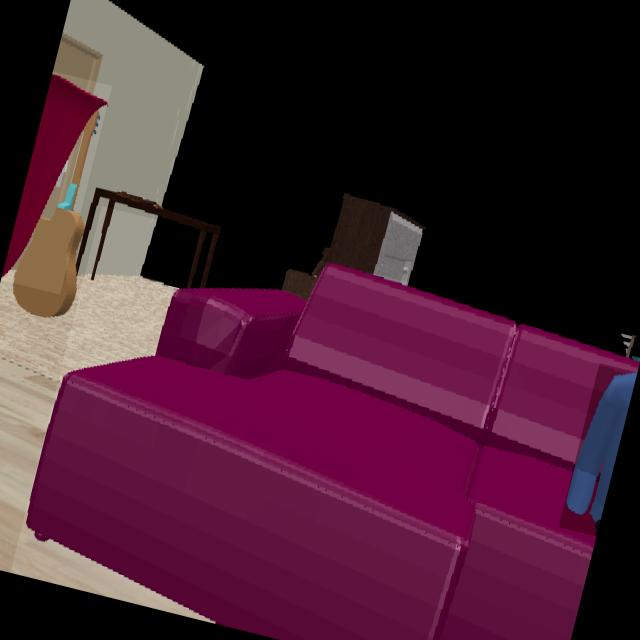chair: (2, 72, 107, 279)
person: (567, 373, 636, 535)
sofa: (25, 264, 639, 640)
